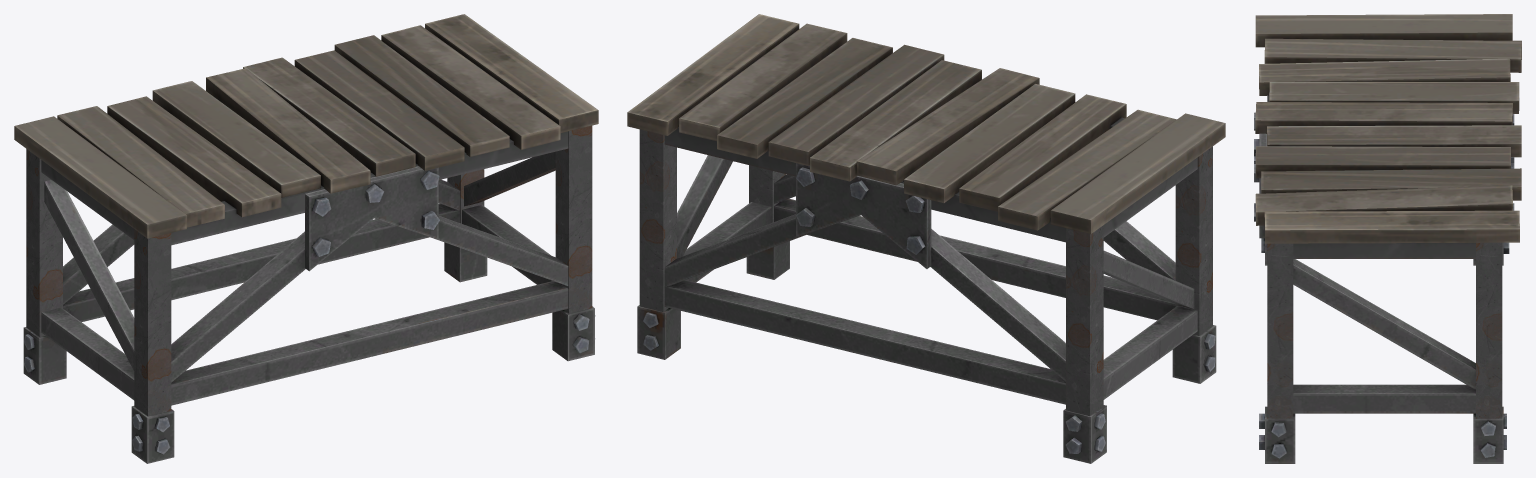
The model's file is WoodPlatform1x2_Thin.glb.
3 views of the same model, side by side, from view 1: azimuth 30°, elevation 25°; view 2: azimuth 150°, elevation 25°; view 3: azimuth 270°, elevation 25° (orthographic). The views are drawn at different scales.
Parts seen in each view (by area): view 1: WoodPlatform1x2_Thin, 1x2Scaffold, ScaleSupportBeam_Metal (2) (×4); view 2: WoodPlatform1x2_Thin, 1x2Scaffold, ScaleSupportBeam_Metal (2) (×4); view 3: WoodPlatform1x2_Thin, 1x2Scaffold, ScaleSupportBeam_Metal (2) (×2).
Part boxes in pixels (left/top/right/bottom): WoodPlatform1x2_Thin: left=14, top=14, right=598, bottom=245; 1x2Scaffold: left=23, top=151, right=595, bottom=463; ScaleSupportBeam_Metal (2) (×4): left=26, top=125, right=592, bottom=416; WoodPlatform1x2_Thin: left=627, top=14, right=1225, bottom=242; 1x2Scaffold: left=637, top=155, right=1216, bottom=463; ScaleSupportBeam_Metal (2) (×4): left=639, top=129, right=1212, bottom=416; WoodPlatform1x2_Thin: left=1255, top=14, right=1521, bottom=258; 1x2Scaffold: left=1254, top=112, right=1514, bottom=463; ScaleSupportBeam_Metal (2) (×2): left=1267, top=242, right=1502, bottom=418.
Bounding box in the file's own units: 1.98 × 1.02 × 1.04.
Materials: 3 (3 with a texture image).
